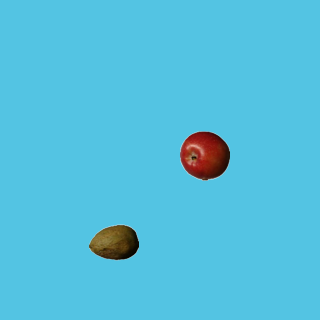Apple Braeburn: (179, 130, 229, 180)
Papaya: (88, 217, 138, 267)
